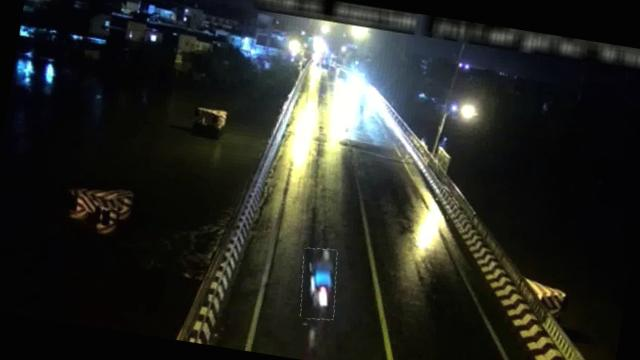Bike: (296, 245, 342, 321)
